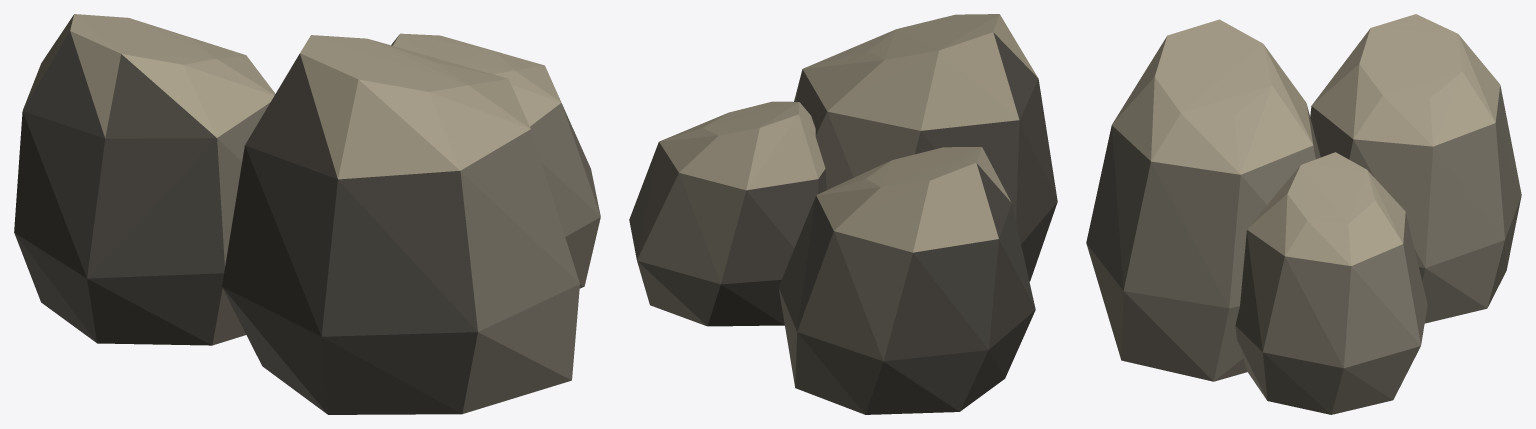
Rendered from TW_ROCK_CLUSTER_SMALL_A_LOD0.glb.
The picture shows the model from 3 angles, left to right: view 1: azimuth 30°, elevation 25°; view 2: azimuth 150°, elevation 25°; view 3: azimuth 270°, elevation 25°; orthographic projection. The views are drawn at different scales.
Parts seen in each view (by area): view 1: TW_ROCK_CLUSTER_SMALL_A_LOD0; view 2: TW_ROCK_CLUSTER_SMALL_A_LOD0; view 3: TW_ROCK_CLUSTER_SMALL_A_LOD0.
Boxes of the visible parts, x1=… form: TW_ROCK_CLUSTER_SMALL_A_LOD0: x1=14, y1=14, x2=600, y2=414; TW_ROCK_CLUSTER_SMALL_A_LOD0: x1=629, y1=14, x2=1057, y2=414; TW_ROCK_CLUSTER_SMALL_A_LOD0: x1=1086, y1=14, x2=1521, y2=414.
Bounding box in the file's own units: 1.34 × 0.8293 × 1.25.
Materials: 1 (1 with a texture image).
